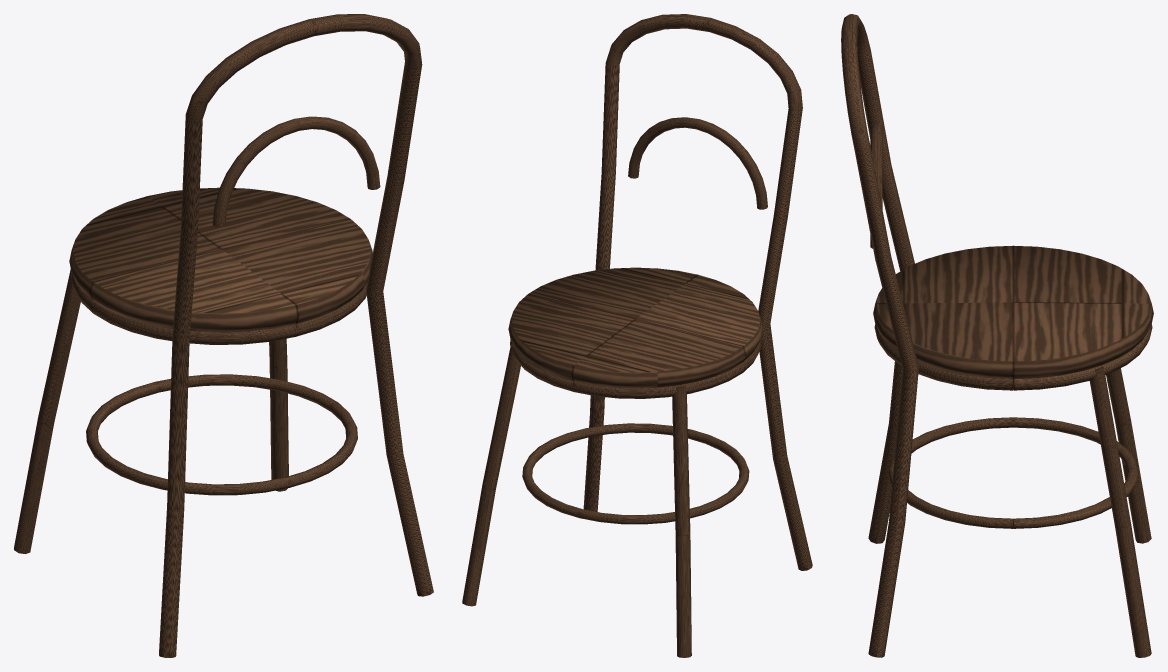
The model's file is cadeira.glb.
3 views of the same model, side by side, from view 1: azimuth 30°, elevation 25°; view 2: azimuth 150°, elevation 25°; view 3: azimuth 270°, elevation 25° (orthographic). The views are drawn at different scales.
Parts seen in each view (by area): view 1: cadeira_assento, cadeira_encosto, cadeira_aro_pernas, cadeira_perna, cadeira_aro_assento, cadeira_encosto_laco, cadeira_perna.001; view 2: cadeira_assento, cadeira_encosto, cadeira_aro_pernas, cadeira_perna, cadeira_perna.001, cadeira_aro_assento, cadeira_encosto_laco; view 3: cadeira_assento, cadeira_encosto, cadeira_aro_pernas, cadeira_perna.001, cadeira_aro_assento, cadeira_perna, cadeira_encosto_laco.
Boxes of the visible parts, box(x1,y1,x2,y2) form: cadeira_assento: box(69, 187, 372, 332); cadeira_encosto: box(159, 14, 433, 657); cadeira_aro_pernas: box(86, 374, 357, 495); cadeira_perna: box(14, 269, 80, 553); cadeira_aro_assento: box(71, 272, 366, 344); cadeira_encosto_laco: box(212, 116, 380, 227); cadeira_perna.001: box(269, 338, 288, 491); cadeira_assento: box(508, 267, 763, 388); cadeira_encosto: box(583, 14, 812, 570); cadeira_aro_pernas: box(522, 423, 749, 524); cadeira_perna: box(672, 386, 691, 657); cadeira_perna.001: box(462, 344, 520, 606); cadeira_aro_assento: box(510, 338, 761, 398); cadeira_encosto_laco: box(628, 117, 767, 209); cadeira_assento: box(873, 245, 1153, 378); cadeira_encosto: box(841, 14, 918, 657); cadeira_aro_pernas: box(888, 417, 1138, 528); cadeira_perna.001: box(1089, 366, 1151, 657); cadeira_aro_assento: box(874, 324, 1152, 390); cadeira_perna: box(1106, 368, 1151, 543); cadeira_encosto_laco: box(870, 124, 882, 248).
Bounding box in the file's own units: 0.4237 × 0.9143 × 0.4568.
Materials: 1 (1 with a texture image).
